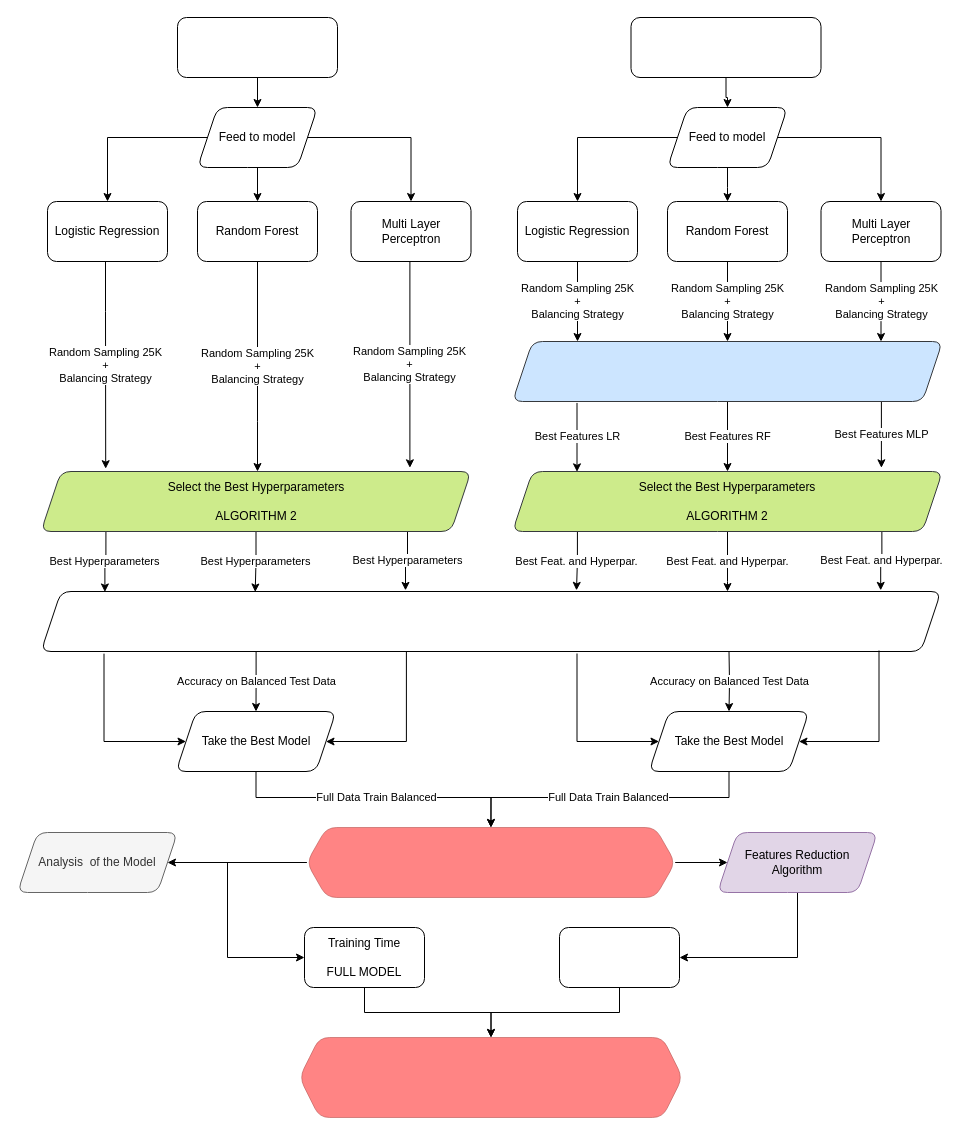
This 960x1135 diagram has some shape labels left out. The centre of each missing label's shape, as x and y in pixels:
Compare the performance and get the Best Absolute Model GOAL 1: [490,862]
Computational Complexity Reduction Evaluation GOAL 2: [490,1077]
Network Extracted Features: [725,47]
Select the Best Features Combination ALGORITHM 1: [727,371]
Symptoms Features: [257,47]
Train the 6 Models: [490,621]
Training Time REDUCED MODEL: [619,957]
